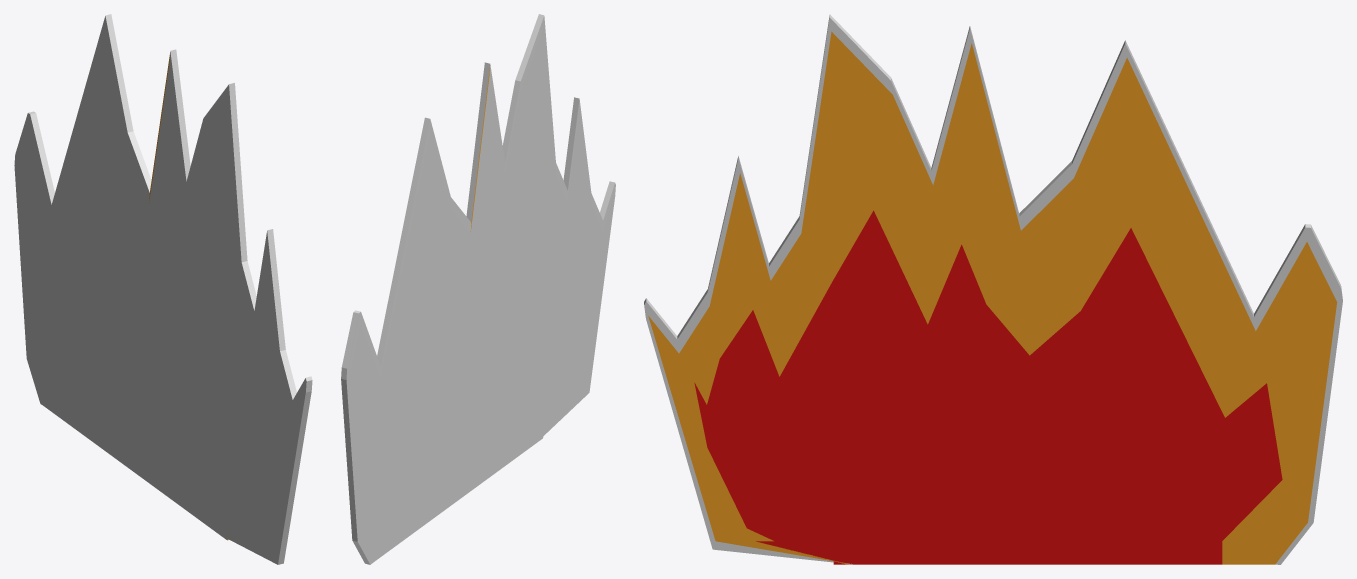
File: Fire1.fbx
The picture shows the model from 3 angles, left to right: view 1: azimuth 30°, elevation 25°; view 2: azimuth 150°, elevation 25°; view 3: azimuth 270°, elevation 25°; orthographic projection. The views are drawn at different scales.
Parts seen in each view (by area): view 1: Cube; view 2: Cube; view 3: Cube.
Part boxes in pixels (x1=…): Cube: x1=14, y1=14, x2=312, y2=564; Cube: x1=341, y1=14, x2=615, y2=564; Cube: x1=644, y1=14, x2=1342, y2=564.
Bounding box in the file's own units: 3.11 × 229 × 265.
